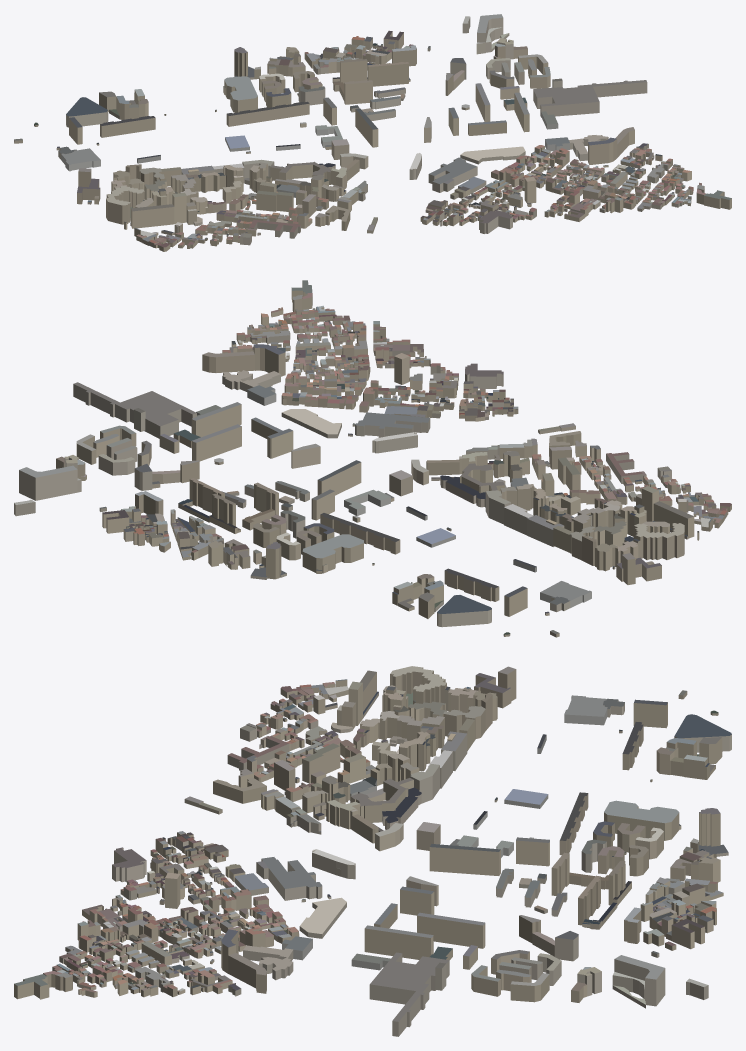
3 views of the same model, one above another, from view 1: azimuth 30°, elevation 25°; view 2: azimuth 150°, elevation 25°; view 3: azimuth 270°, elevation 25° (orthographic). The views are drawn at different scales.
Visible parts, largest first — view 1: tuile; view 2: tuile; view 3: tuile.
Boxes of the visible parts, left/top/right/bottom form: tuile: left=14, top=14, right=731, bottom=251; tuile: left=14, top=280, right=731, bottom=637; tuile: left=14, top=666, right=731, bottom=1036.
Bounding box in the file's own units: 1141 × 63.36 × 979.
